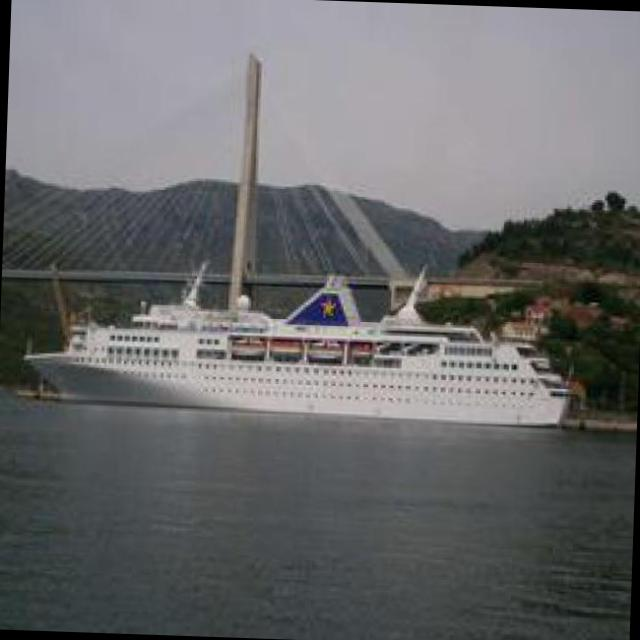boat: (18, 270, 595, 438)
